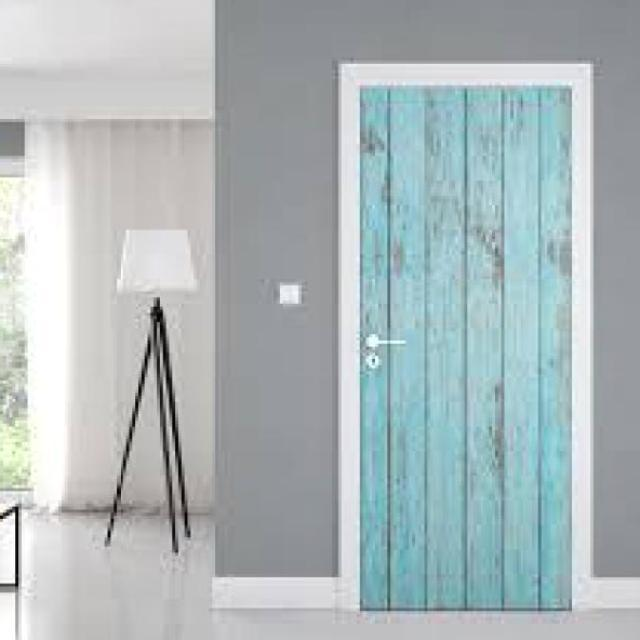door: (354, 69, 575, 612)
